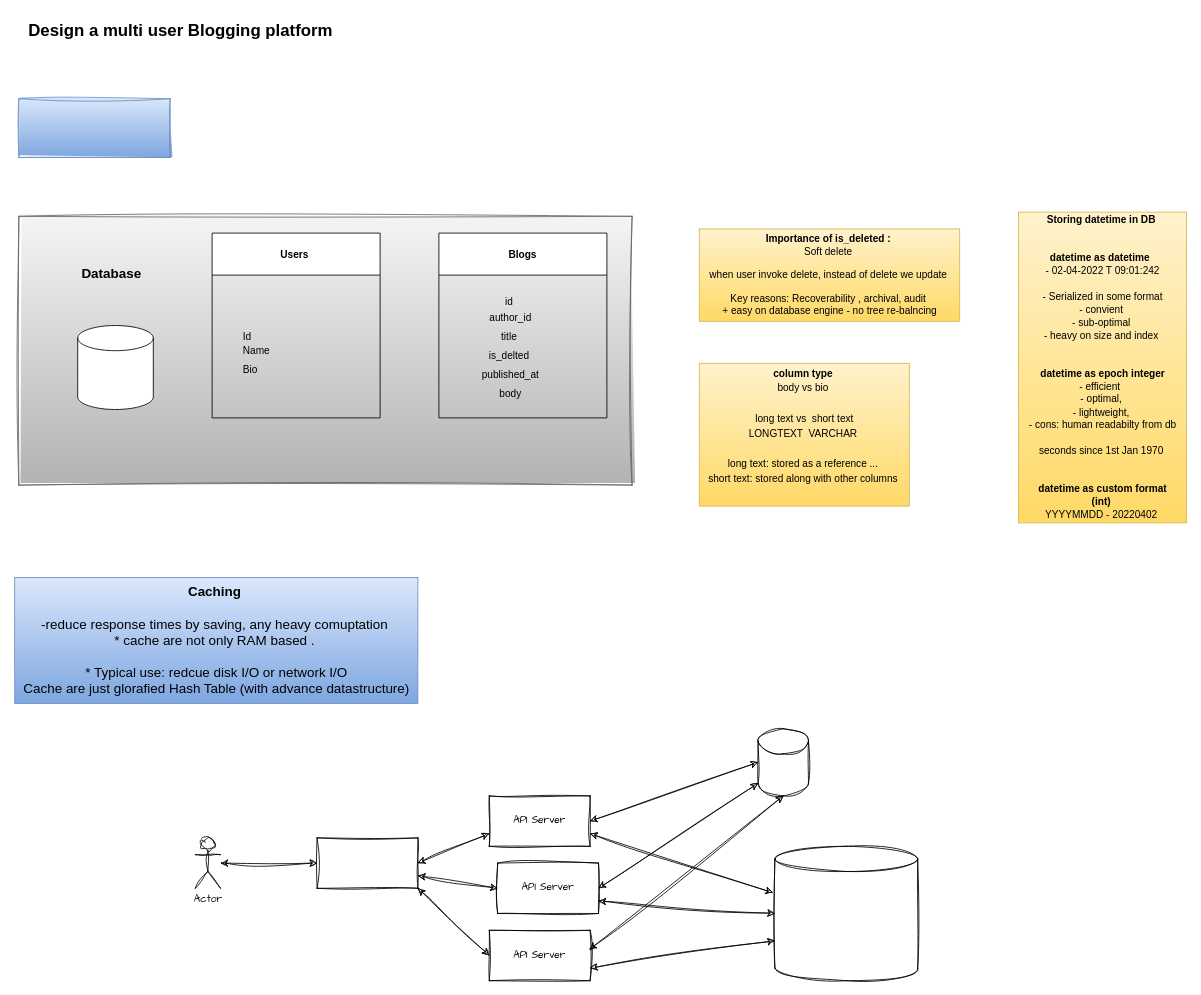
Some shapes in this 1201 by 995 pixel diagram are drawn without their labels. The shapes that lost their labels are listed below. From the top down, each one's centre as x and y in pixels, then its label:
At [94,128]: "Requirements - One user have multiple blogs Multiple users".
At [115,367]: "Relational DB".
At [782,762]: "Cache".
At [367,862]: "Load Balancer".
At [846,913]: "DB".
